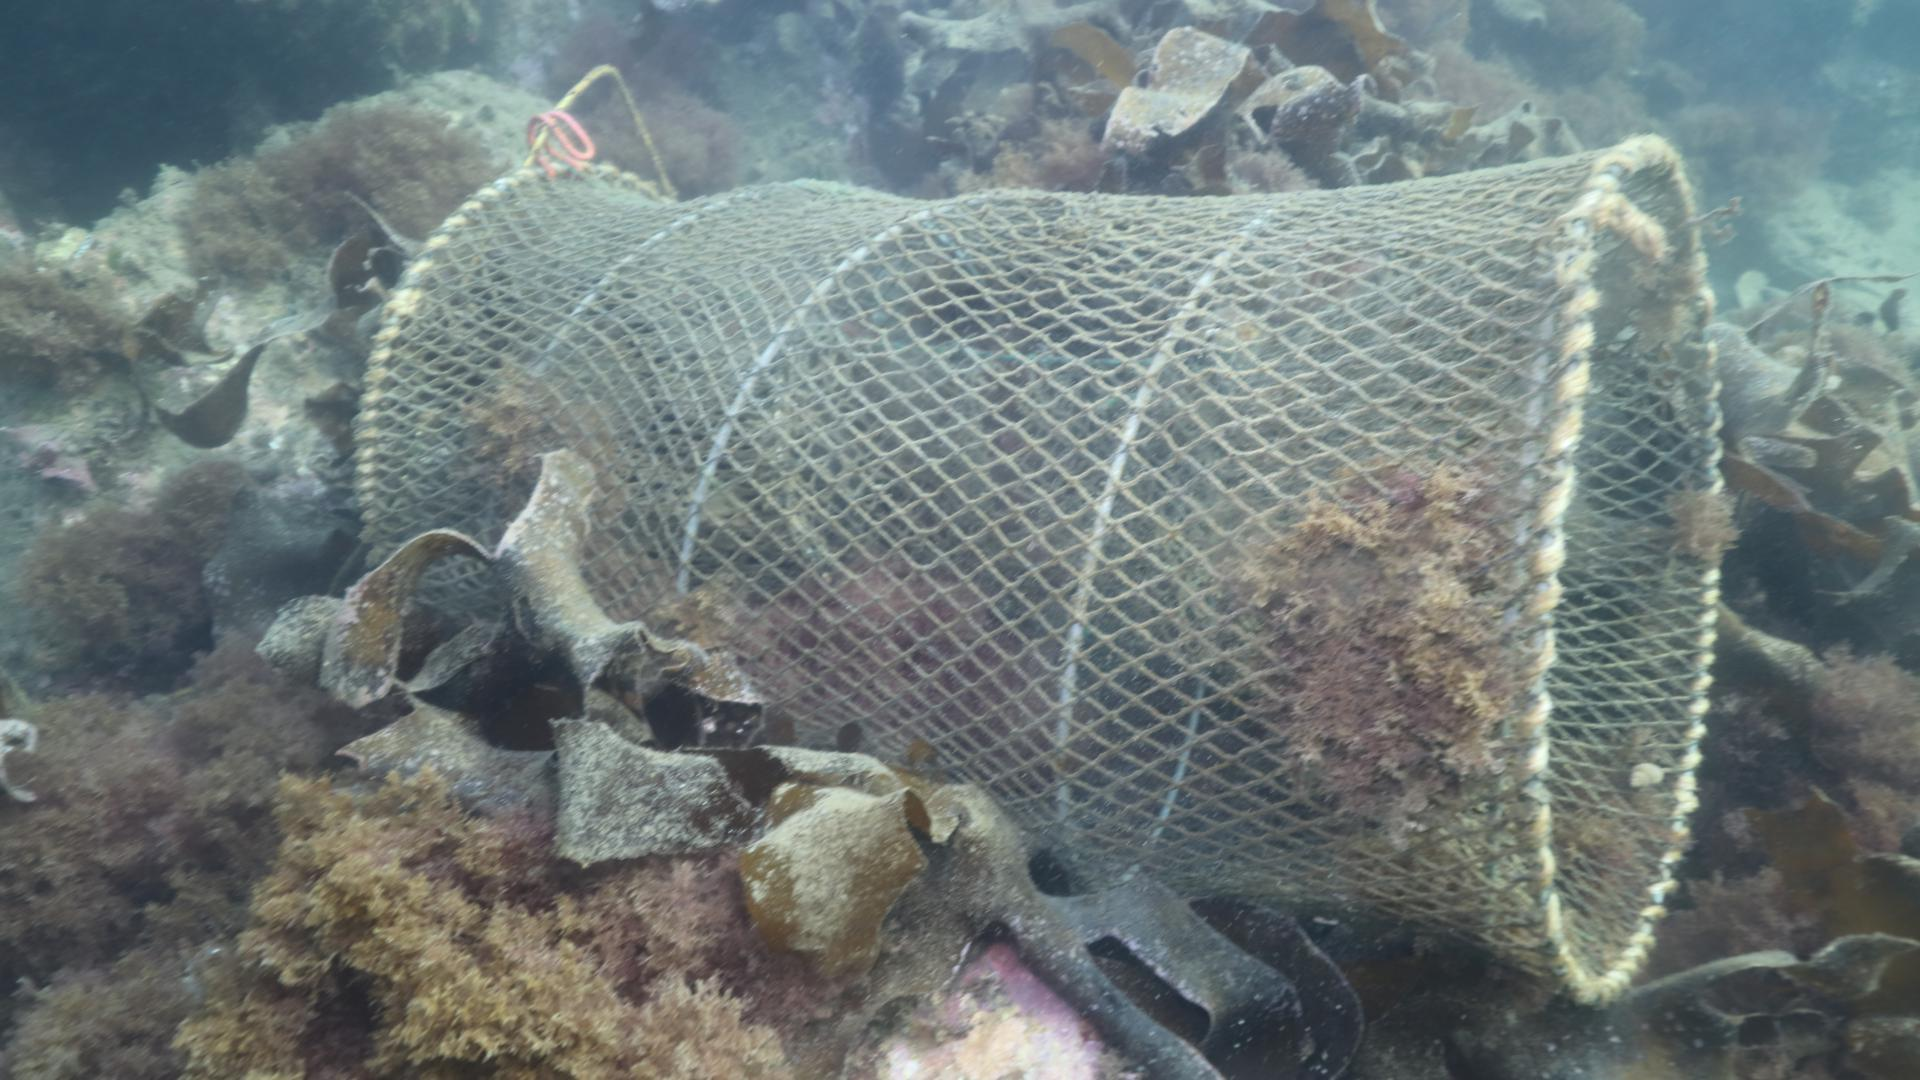spring fish trap: (353, 135, 1729, 1006)
